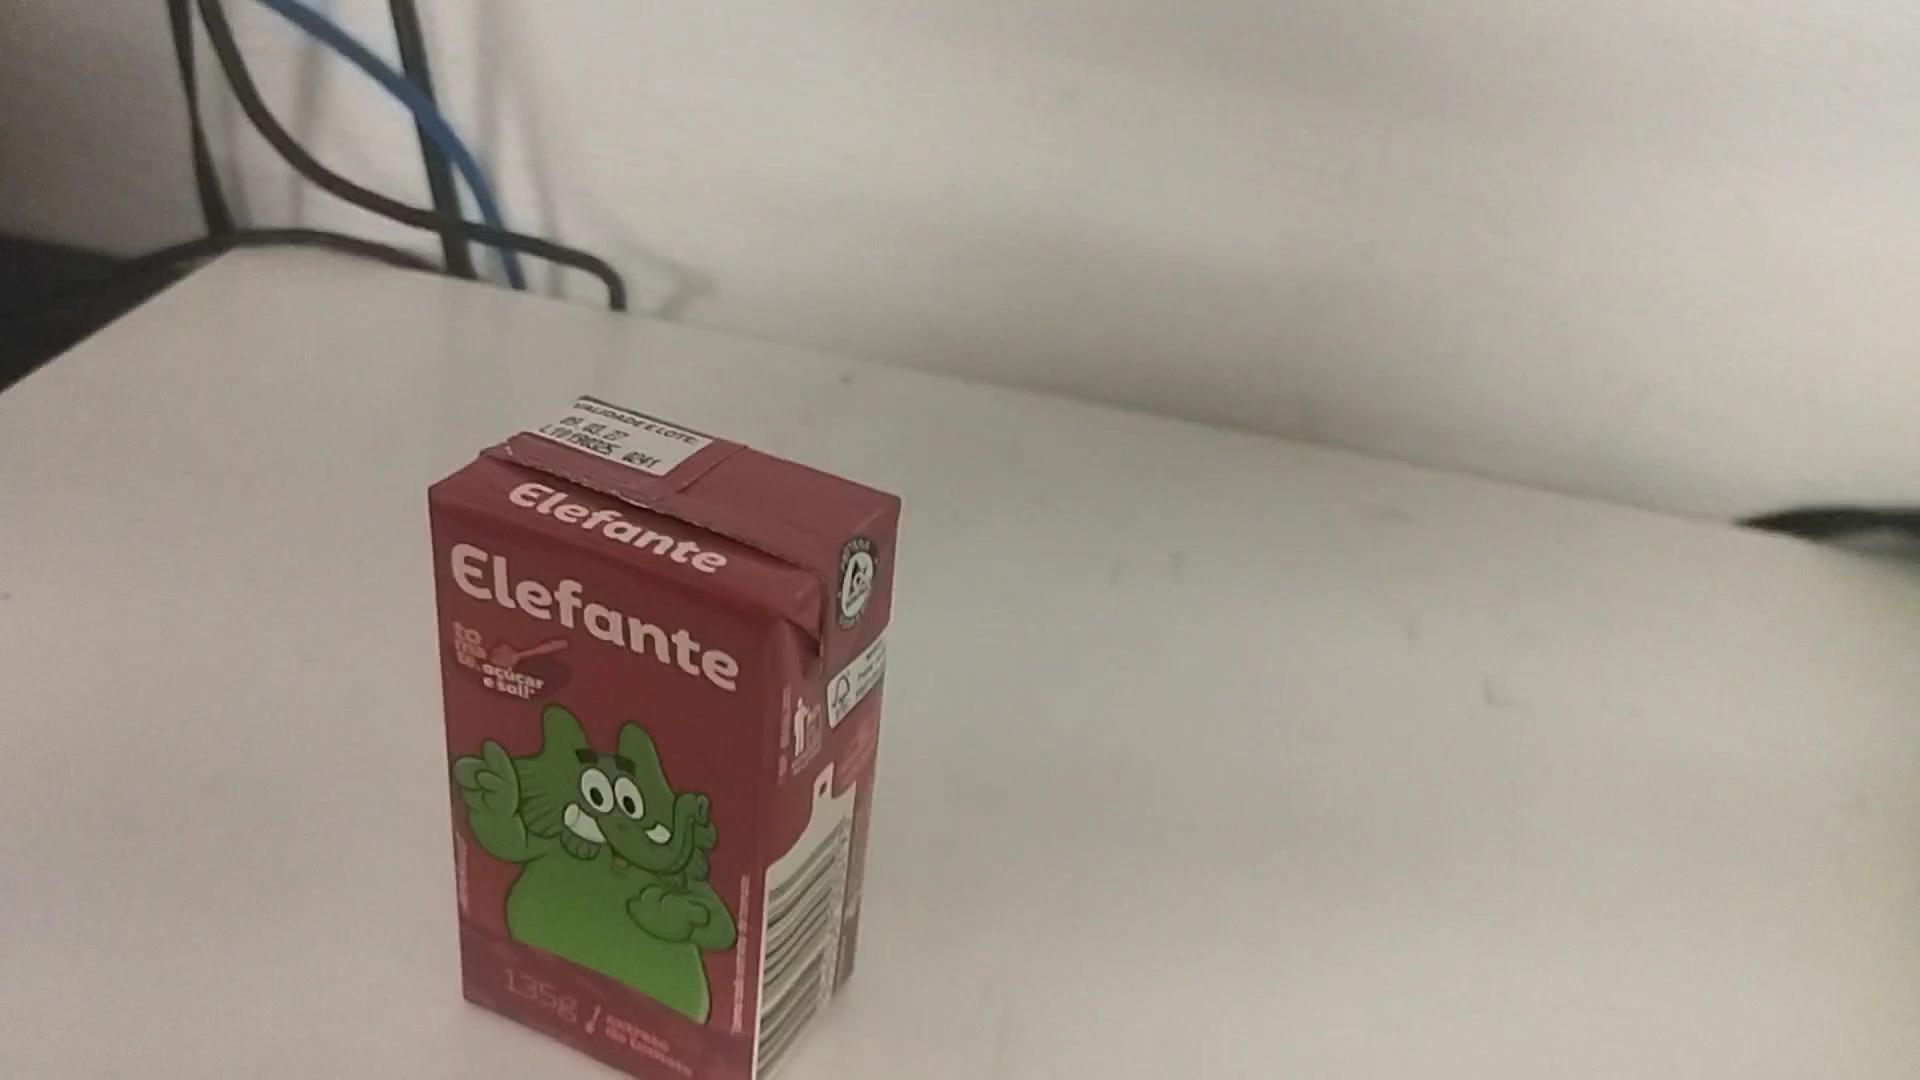tomate: (418, 386, 913, 1073)
